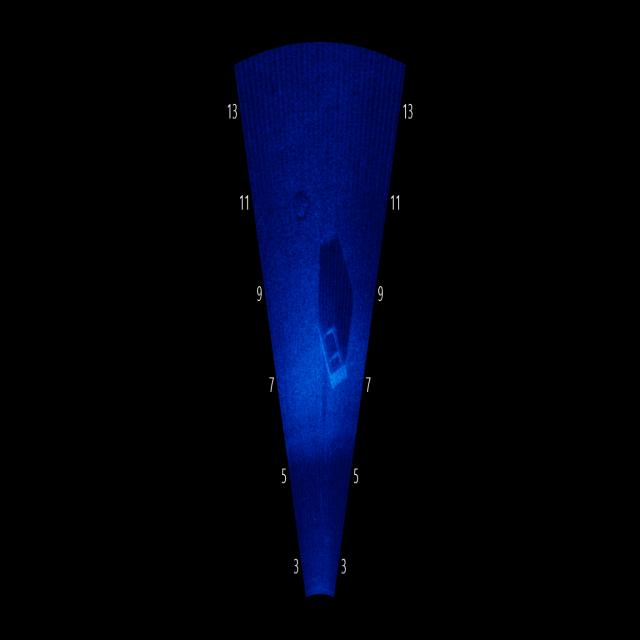square: (316, 310, 351, 398)
